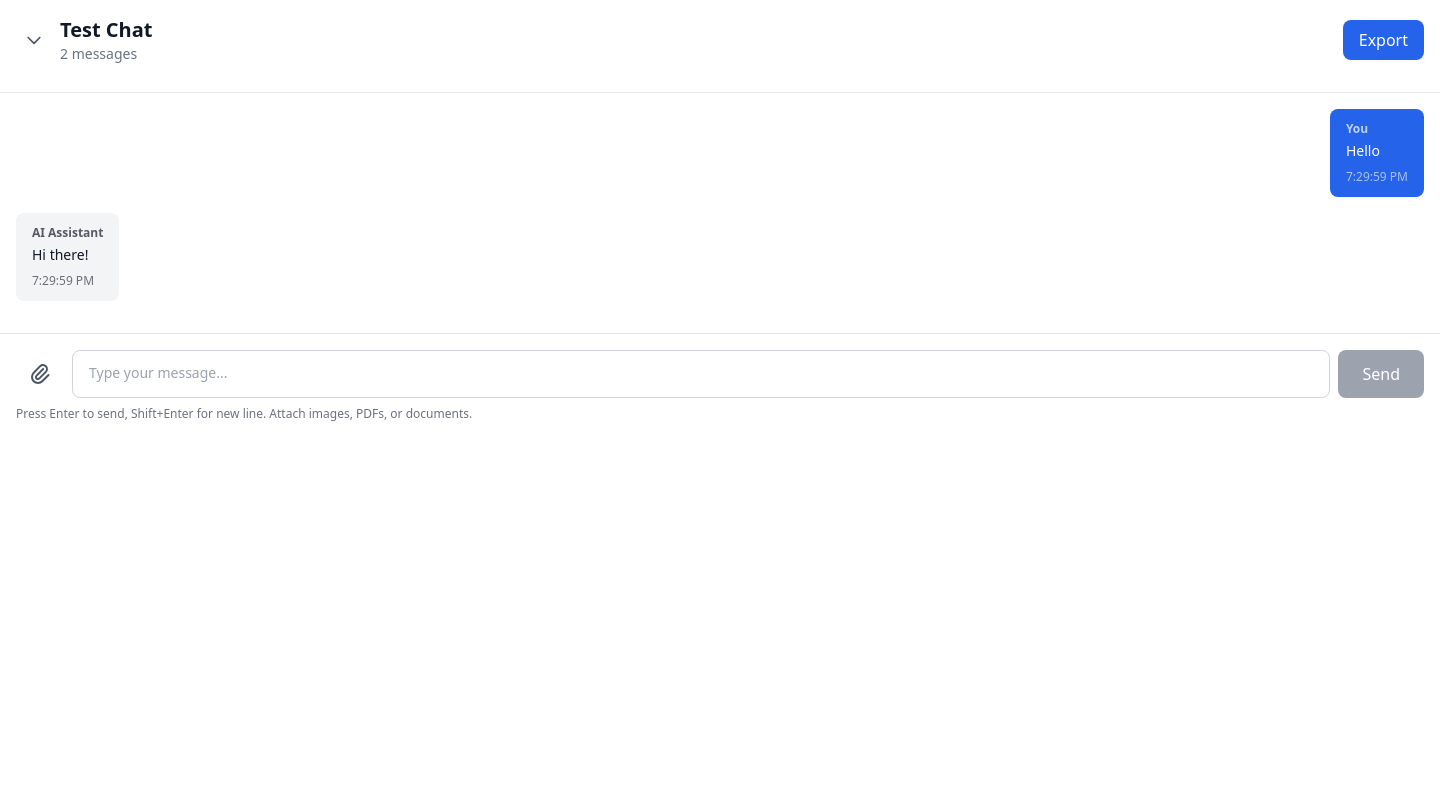
Test case: Chat Flow Integration › Chat metadata › should toggle metadata editor when button is clicked
The width and height of the screenshot is (1440, 810).
Expected: the text "Category" is not shown
# Click toggle button
Click the button named "Toggle metadata editor": (34, 40) [16,22,52,58]
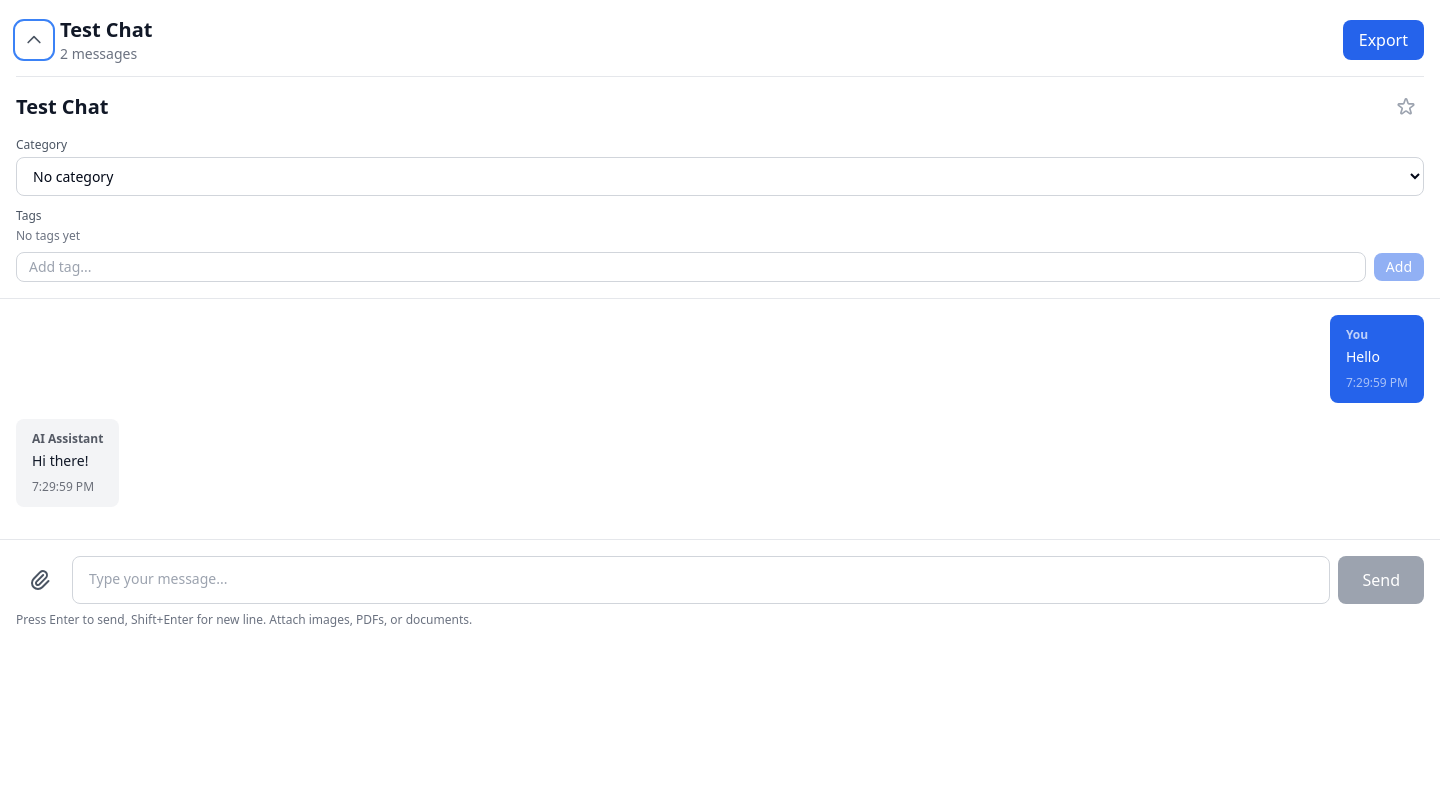
Expected: the text "Category" is shown, [16,136,67,153]
# Click again to hide
Click the button named "Toggle metadata editor": (34, 40) [16,22,52,58]
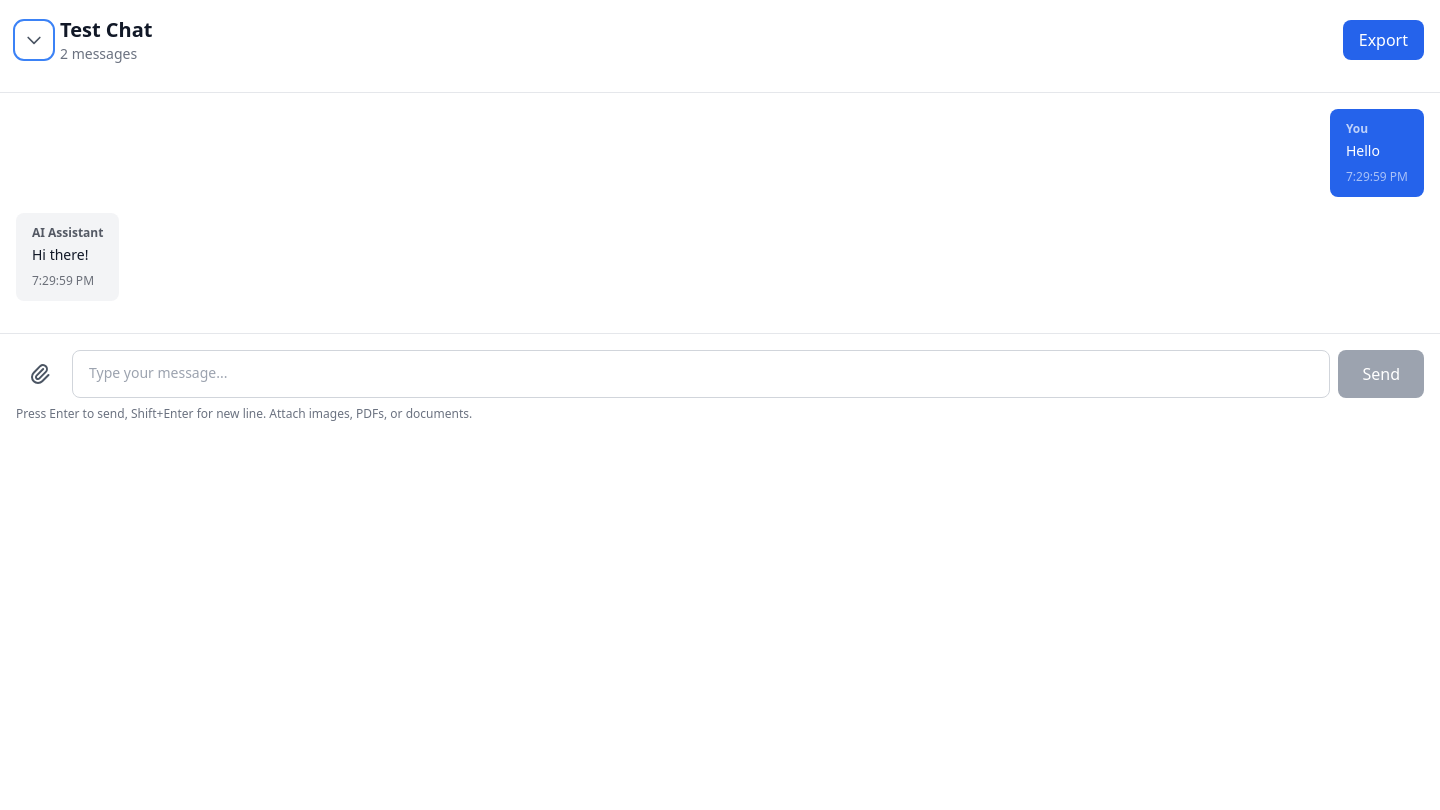
Expected: the text "Category" is gone
